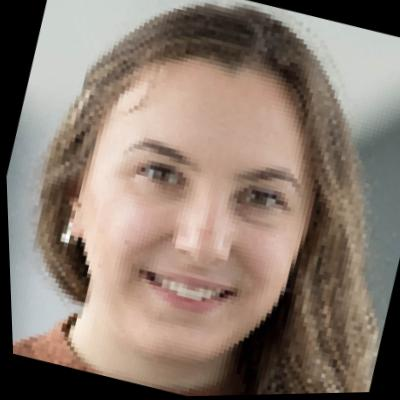happy: (48, 34, 335, 362)
